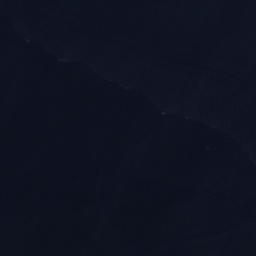Marine Debris: (185, 116, 217, 129), (104, 76, 131, 91), (161, 111, 167, 116)
